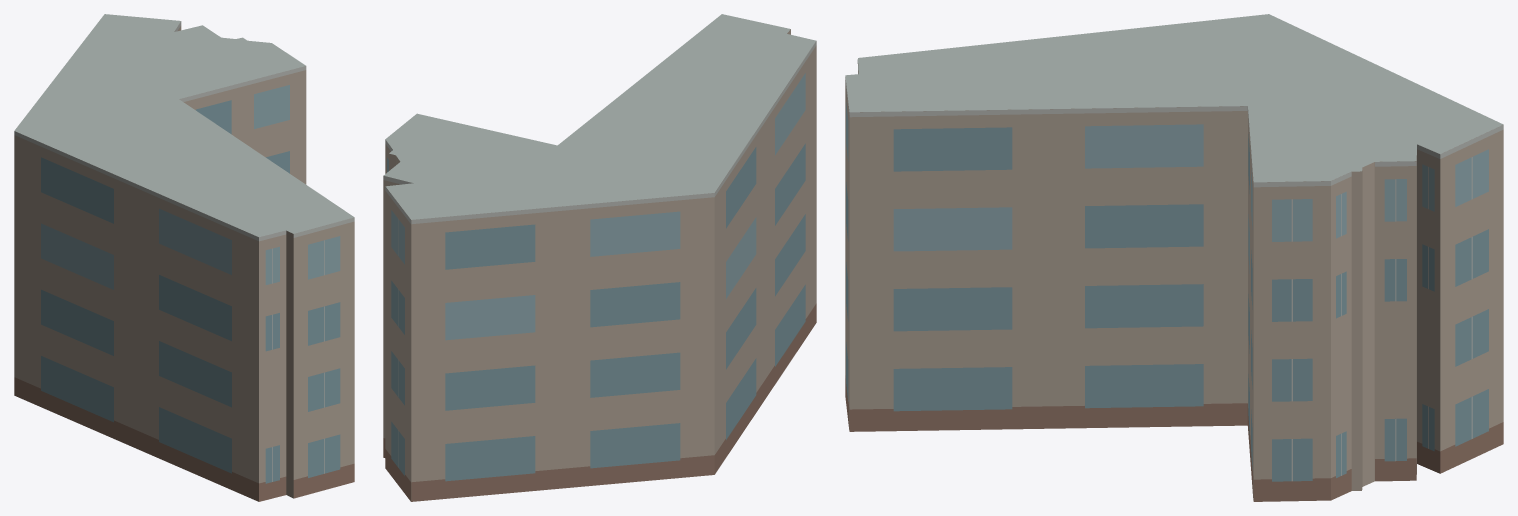
Rendered from survey-upis-33030624.glb.
3 views of the same model, side by side, from view 1: azimuth 30°, elevation 25°; view 2: azimuth 150°, elevation 25°; view 3: azimuth 270°, elevation 25° (orthographic). The views are drawn at different scales.
Parts seen in each view (by area): view 1: survey-upis-33030624.tmp; view 2: survey-upis-33030624.tmp; view 3: survey-upis-33030624.tmp.
Part boxes in pixels (bbox=[...]): survey-upis-33030624.tmp: bbox=[14, 14, 354, 501]; survey-upis-33030624.tmp: bbox=[383, 14, 816, 501]; survey-upis-33030624.tmp: bbox=[845, 14, 1503, 501].
Size of the model in its own units: 17.98 by 15.9 by 29.71.
